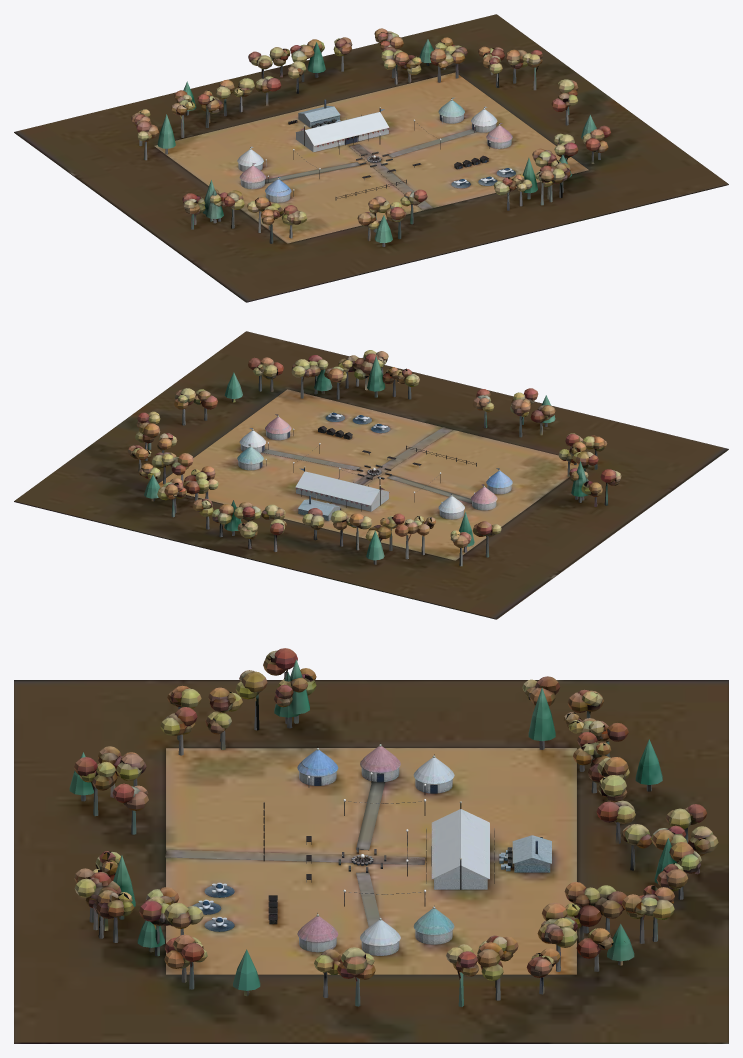
File: hunting_camp_low.glb
3 views of the same model, one above another, from view 1: azimuth 30°, elevation 25°; view 2: azimuth 150°, elevation 25°; view 3: azimuth 270°, elevation 25° (orthographic). The views are drawn at different scales.
Parts seen in each view (by area): view 1: site_ground, props_trees, props_tents, props_marquee, props_camp; view 2: site_ground, props_trees, props_tents, props_marquee, props_camp; view 3: site_ground, props_trees, props_tents, props_marquee, props_camp.
Part boxes in pixels (x1,y1,x2,y2): site_ground: (14, 14, 728, 302); props_trees: (131, 28, 610, 246); props_tents: (237, 97, 512, 202); props_marquee: (295, 107, 389, 152); props_camp: (293, 119, 515, 200); site_ground: (14, 331, 728, 619); props_trees: (127, 350, 621, 566); props_tents: (237, 414, 512, 520); props_marquee: (295, 466, 389, 511); props_camp: (293, 412, 476, 504); site_ground: (14, 680, 728, 1043); props_trees: (69, 648, 718, 1006); props_tents: (297, 743, 551, 955); props_marquee: (426, 801, 494, 889); props_camp: (192, 799, 510, 931).
Bounding box in the file's own units: 192 × 16.06 × 160.
5 materials, 5 textured.
